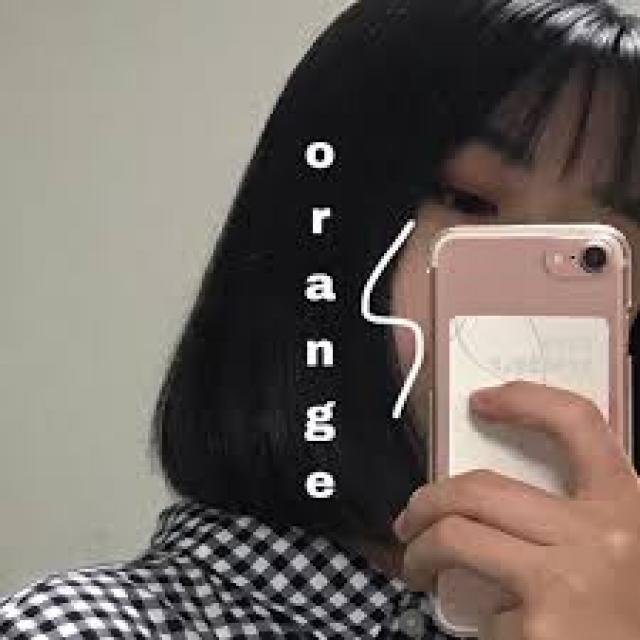Phone: (424, 222, 634, 639)
